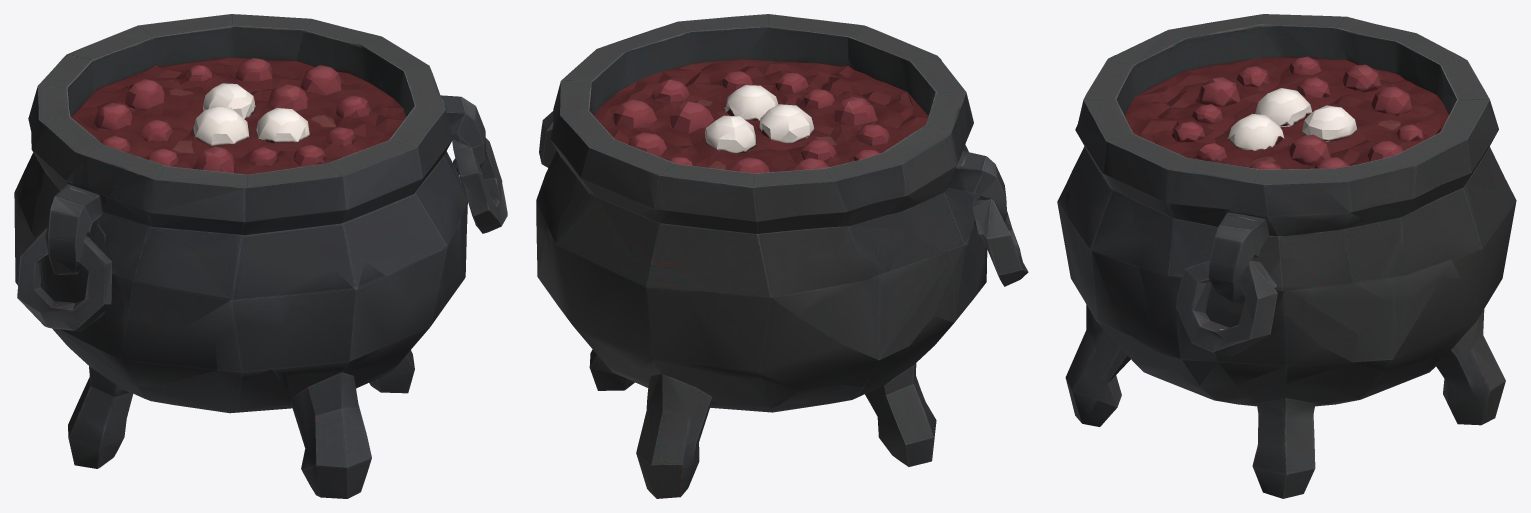
File: cauldron.glb
3 renders of one model, left to right at view 1: azimuth 30°, elevation 25°; view 2: azimuth 150°, elevation 25°; view 3: azimuth 270°, elevation 25°, orthographic.
Parts seen in each view (by area): view 1: Mesh_0; view 2: Mesh_0; view 3: Mesh_0.
Part boxes in pixels (box(x1,y1,x2,y2)): Mesh_0: box(14, 14, 507, 498); Mesh_0: box(536, 14, 1028, 498); Mesh_0: box(1057, 14, 1516, 498).
Bounding box in the file's own units: 2 × 1.29 × 1.66.
1 material, 1 textured.
